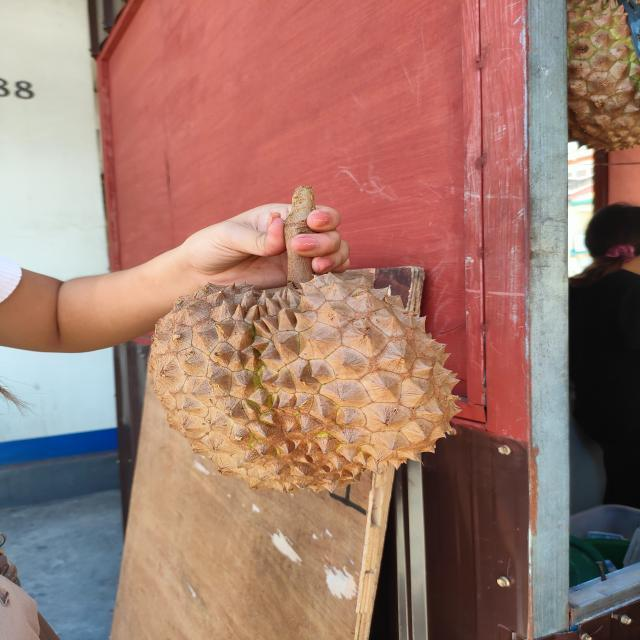mature: (146, 271, 464, 498)
